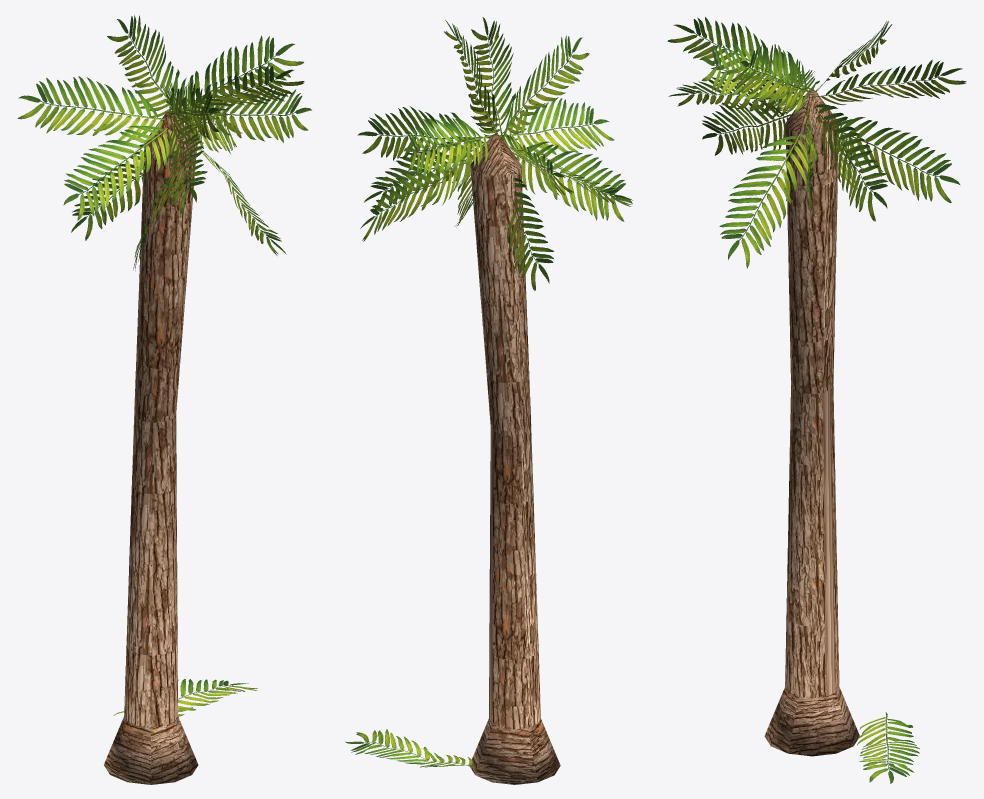
File: tree_1.fbx
The picture shows the model from 3 angles, left to right: view 1: azimuth 30°, elevation 25°; view 2: azimuth 150°, elevation 25°; view 3: azimuth 270°, elevation 25°; orthographic projection. The views are drawn at different scales.
Parts seen in each view (by area): view 1: tree_1, tree_1|PinClipart.com_fern-leaf-clip-art_4048828|Dupli|2, tree_1|PinClipart.com_fern-leaf-clip-art_4048828|Dupli|11, tree_1|PinClipart.com_fern-leaf-clip-art_4048828|Dupli|5, tree_1|PinClipart.com_fern-leaf-clip-art_4048828|Dupli|12, tree_1|PinClipart.com_fern-leaf-clip-art_4048828|Dupli|8, tree_1|PinClipart.com_fern-leaf-clip-art_4048828|Dupli|6, tree_1|PinClipart.com_fern-leaf-clip-art_4048828|Dupli|3, tree_1|PinClipart.com_fern-leaf-clip-art_4048828|Dupli|, tree_1|PinClipart.com_fern-leaf-clip-art_4048828|Dupli|10, PinClipart.com_fern-leaf-clip-art_4048828, tree_1|PinClipart.com_fern-leaf-clip-art_4048828|Dupli|7 (+2 smaller); view 2: tree_1, tree_1|PinClipart.com_fern-leaf-clip-art_4048828|Dupli|1, tree_1|PinClipart.com_fern-leaf-clip-art_4048828|Dupli|3, tree_1|PinClipart.com_fern-leaf-clip-art_4048828|Dupli|4, tree_1|PinClipart.com_fern-leaf-clip-art_4048828|Dupli|12, tree_1|PinClipart.com_fern-leaf-clip-art_4048828|Dupli|, tree_1|PinClipart.com_fern-leaf-clip-art_4048828|Dupli|8, tree_1|PinClipart.com_fern-leaf-clip-art_4048828|Dupli|6, tree_1|PinClipart.com_fern-leaf-clip-art_4048828|Dupli|10, tree_1|PinClipart.com_fern-leaf-clip-art_4048828|Dupli|9, PinClipart.com_fern-leaf-clip-art_4048828, tree_1|PinClipart.com_fern-leaf-clip-art_4048828|Dupli|5 (+2 smaller); view 3: tree_1, tree_1|PinClipart.com_fern-leaf-clip-art_4048828|Dupli|7, tree_1|PinClipart.com_fern-leaf-clip-art_4048828|Dupli|4, tree_1|PinClipart.com_fern-leaf-clip-art_4048828|Dupli|9, tree_1|PinClipart.com_fern-leaf-clip-art_4048828|Dupli|12, tree_1|PinClipart.com_fern-leaf-clip-art_4048828|Dupli|, tree_1|PinClipart.com_fern-leaf-clip-art_4048828|Dupli|5, tree_1|PinClipart.com_fern-leaf-clip-art_4048828|Dupli|1, PinClipart.com_fern-leaf-clip-art_4048828, tree_1|PinClipart.com_fern-leaf-clip-art_4048828|Dupli|6, tree_1|PinClipart.com_fern-leaf-clip-art_4048828|Dupli|3, tree_1|PinClipart.com_fern-leaf-clip-art_4048828|Dupli|2 (+1 smaller).
Part boxes in pixels (left/top/right/bottom): tree_1: left=104, top=111, right=198, bottom=784; tree_1|PinClipart.com_fern-leaf-clip-art_4048828|Dupli|2: left=17, top=76, right=164, bottom=142; tree_1|PinClipart.com_fern-leaf-clip-art_4048828|Dupli|11: left=63, top=125, right=176, bottom=220; tree_1|PinClipart.com_fern-leaf-clip-art_4048828|Dupli|5: left=162, top=35, right=303, bottom=125; tree_1|PinClipart.com_fern-leaf-clip-art_4048828|Dupli|12: left=107, top=15, right=179, bottom=117; tree_1|PinClipart.com_fern-leaf-clip-art_4048828|Dupli|8: left=190, top=87, right=311, bottom=142; tree_1|PinClipart.com_fern-leaf-clip-art_4048828|Dupli|6: left=165, top=65, right=304, bottom=118; tree_1|PinClipart.com_fern-leaf-clip-art_4048828|Dupli|3: left=166, top=117, right=207, bottom=214; tree_1|PinClipart.com_fern-leaf-clip-art_4048828|Dupli|: left=165, top=82, right=218, bottom=141; tree_1|PinClipart.com_fern-leaf-clip-art_4048828|Dupli|10: left=71, top=144, right=147, bottom=240; PinClipart.com_fern-leaf-clip-art_4048828: left=113, top=679, right=257, bottom=716; tree_1|PinClipart.com_fern-leaf-clip-art_4048828|Dupli|7: left=197, top=145, right=286, bottom=255; tree_1: left=470, top=134, right=560, bottom=784; tree_1|PinClipart.com_fern-leaf-clip-art_4048828|Dupli|1: left=512, top=141, right=632, bottom=221; tree_1|PinClipart.com_fern-leaf-clip-art_4048828|Dupli|3: left=500, top=98, right=614, bottom=161; tree_1|PinClipart.com_fern-leaf-clip-art_4048828|Dupli|4: left=360, top=153, right=476, bottom=241; tree_1|PinClipart.com_fern-leaf-clip-art_4048828|Dupli|12: left=404, top=118, right=491, bottom=178; tree_1|PinClipart.com_fern-leaf-clip-art_4048828|Dupli|: left=495, top=35, right=589, bottom=140; tree_1|PinClipart.com_fern-leaf-clip-art_4048828|Dupli|8: left=357, top=106, right=489, bottom=166; tree_1|PinClipart.com_fern-leaf-clip-art_4048828|Dupli|6: left=471, top=17, right=515, bottom=139; tree_1|PinClipart.com_fern-leaf-clip-art_4048828|Dupli|10: left=507, top=171, right=554, bottom=290; tree_1|PinClipart.com_fern-leaf-clip-art_4048828|Dupli|9: left=364, top=136, right=484, bottom=213; PinClipart.com_fern-leaf-clip-art_4048828: left=345, top=729, right=480, bottom=769; tree_1|PinClipart.com_fern-leaf-clip-art_4048828|Dupli|5: left=444, top=20, right=498, bottom=137; tree_1: left=764, top=91, right=859, bottom=756; tree_1|PinClipart.com_fern-leaf-clip-art_4048828|Dupli|7: left=719, top=133, right=816, bottom=268; tree_1|PinClipart.com_fern-leaf-clip-art_4048828|Dupli|4: left=817, top=117, right=960, bottom=202; tree_1|PinClipart.com_fern-leaf-clip-art_4048828|Dupli|9: left=814, top=104, right=887, bottom=221; tree_1|PinClipart.com_fern-leaf-clip-art_4048828|Dupli|12: left=808, top=59, right=966, bottom=105; tree_1|PinClipart.com_fern-leaf-clip-art_4048828|Dupli|: left=667, top=17, right=817, bottom=102; tree_1|PinClipart.com_fern-leaf-clip-art_4048828|Dupli|5: left=731, top=44, right=810, bottom=114; tree_1|PinClipart.com_fern-leaf-clip-art_4048828|Dupli|1: left=702, top=98, right=793, bottom=155; PinClipart.com_fern-leaf-clip-art_4048828: left=857, top=712, right=919, bottom=783; tree_1|PinClipart.com_fern-leaf-clip-art_4048828|Dupli|6: left=701, top=41, right=808, bottom=110; tree_1|PinClipart.com_fern-leaf-clip-art_4048828|Dupli|3: left=668, top=77, right=804, bottom=116; tree_1|PinClipart.com_fern-leaf-clip-art_4048828|Dupli|2: left=815, top=21, right=892, bottom=91.
Size of the model in its own units: 1160 by 2982 by 1123.
